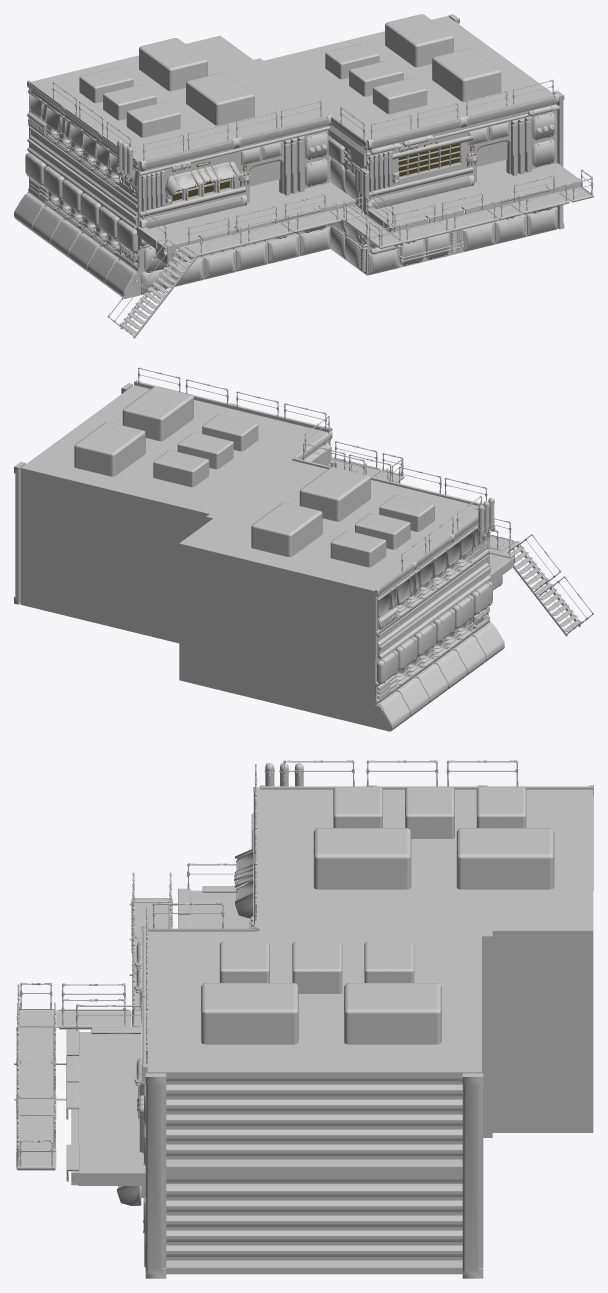
Rendered from Building_04.fbx.
3 views of the same model, one above another, from view 1: azimuth 30°, elevation 25°; view 2: azimuth 150°, elevation 25°; view 3: azimuth 270°, elevation 25° (orthographic). The views are drawn at different scales.
Visible parts, largest first — view 1: Floor.008, Floor.009, Roof_Block.007, Roof_Block.002, Roof_Block.006, Roof_Block.011, Wall_08_Window.014, Wall_04_Window.012, Wall_03.060, Roof_Block.008, Roof_Block.003, Wall_02.108 (+66 smaller); view 2: Floor.009, Floor.008, Wall_01.047, Wall_01.048, Wall_01.040, Wall_01.039, Wall_01.042, Wall_01.045, Wall_01.041, Wall_01.046, Wall_01.037, Wall_01.038 (+32 smaller); view 3: Floor.008, Floor.009, Wall_09.033, Wall_09.030, Wall_01.049, Wall_01.050, Wall_09.032, Wall_09.034, Wall_09.027, Wall_09.031, Roof_Block.002, Roof_Block.006 (+20 smaller).
Boxes of the visible parts, left/top/right/bottom form: Floor.008: left=31, top=35, right=327, bottom=161; Floor.009: left=258, top=16, right=552, bottom=140; Roof_Block.007: left=432, top=48, right=501, bottom=101; Roof_Block.002: left=186, top=72, right=254, bottom=125; Roof_Block.006: left=139, top=38, right=207, bottom=91; Roof_Block.011: left=385, top=14, right=453, bottom=67; Wall_08_Window.014: left=398, top=127, right=462, bottom=192; Wall_04_Window.012: left=171, top=148, right=234, bottom=212; Wall_03.060: left=27, top=139, right=137, bottom=228; Roof_Block.008: left=372, top=78, right=427, bottom=114; Roof_Block.003: left=126, top=102, right=180, bottom=137; Wall_02.108: left=262, top=182, right=350, bottom=214; Floor.009: left=21, top=385, right=327, bottom=515; Floor.008: left=179, top=460, right=478, bottom=590; Wall_01.047: left=20, top=536, right=86, bottom=620; Wall_01.048: left=20, top=468, right=86, bottom=552; Wall_01.040: left=244, top=559, right=309, bottom=643; Wall_01.039: left=244, top=628, right=309, bottom=711; Wall_01.042: left=179, top=543, right=244, bottom=627; Wall_01.045: left=86, top=552, right=151, bottom=636; Wall_01.041: left=179, top=612, right=244, bottom=696; Wall_01.046: left=86, top=484, right=151, bottom=568; Wall_01.037: left=310, top=644, right=375, bottom=727; Wall_01.038: left=310, top=575, right=375, bottom=659; Floor.008: left=259, top=789, right=593, bottom=930; Floor.009: left=147, top=931, right=481, bottom=1072; Wall_09.033: left=259, top=1072, right=370, bottom=1173; Wall_09.030: left=259, top=1173, right=370, bottom=1274; Wall_01.049: left=492, top=1032, right=593, bottom=1132; Wall_01.050: left=492, top=931, right=593, bottom=1031; Wall_09.032: left=147, top=1072, right=259, bottom=1173; Wall_09.034: left=370, top=1072, right=481, bottom=1173; Wall_09.027: left=166, top=1173, right=259, bottom=1274; Wall_09.031: left=370, top=1173, right=462, bottom=1274; Roof_Block.002: left=313, top=828, right=411, bottom=889; Roof_Block.006: left=456, top=828, right=554, bottom=889.
Bounding box in the file's own units: 28.21 × 9.43 × 20.83.
